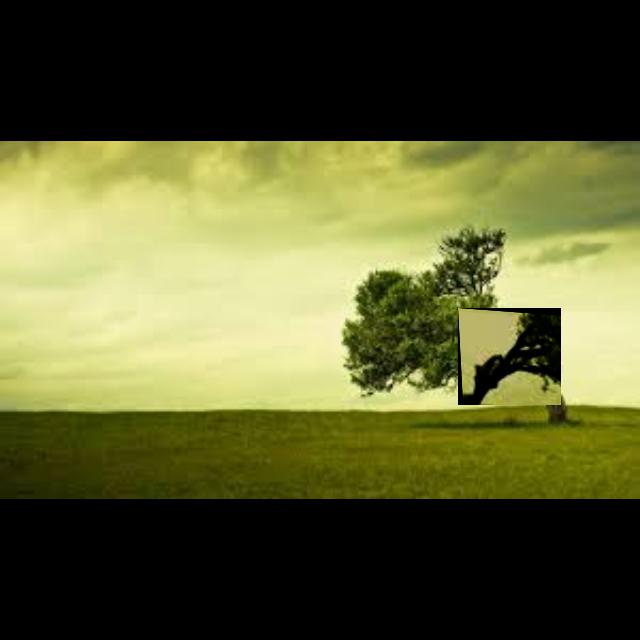Fallen Tree: (458, 308, 562, 406)
